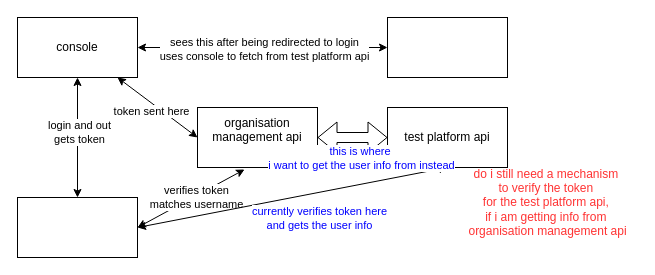
This 655x275 diagram has some shape labels left out. The shapes that lost their labels are listed below. From the top down, each one's centre as x and y in pixels, then its label:
At pixel 447 47: "test platform front end".
At pixel 77 227: "keycloak".
